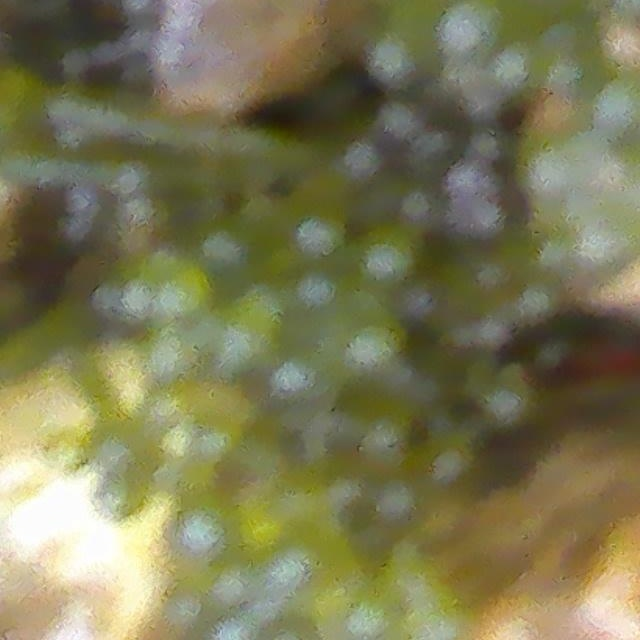SeaGrape: (439, 0, 512, 59)
